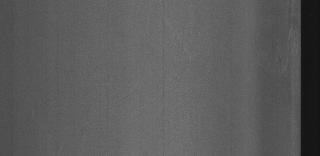silk spot: (272, 26, 296, 76)
